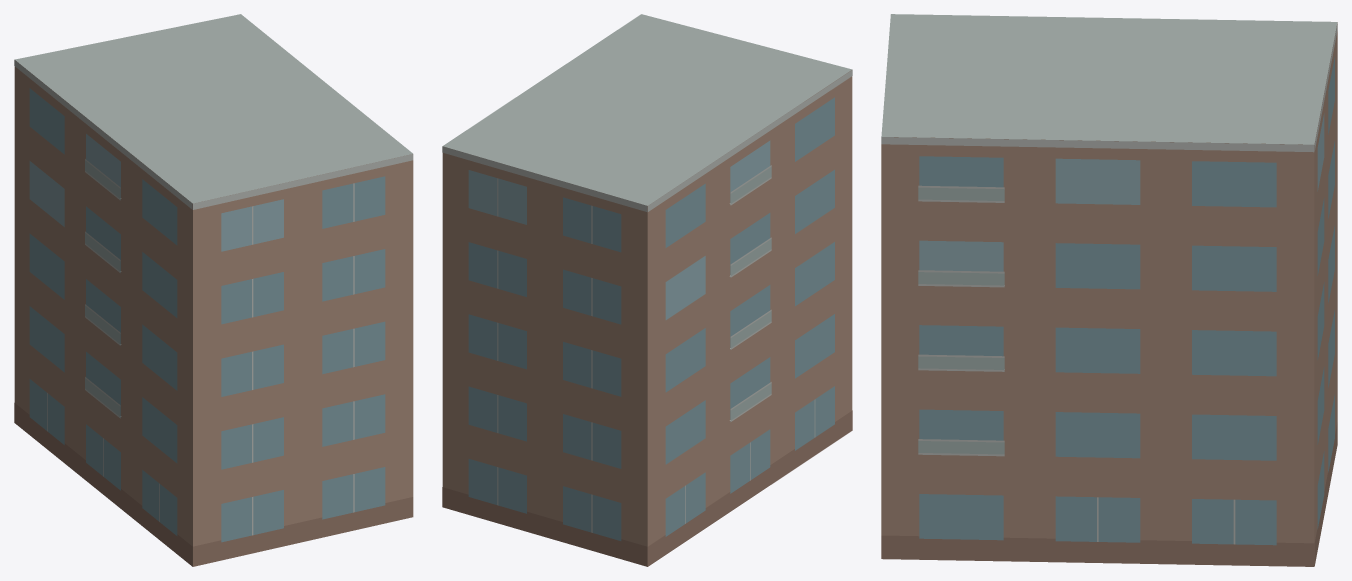
File: survey-upis-32881890.glb
3 renders of one model, left to right at view 1: azimuth 30°, elevation 25°; view 2: azimuth 150°, elevation 25°; view 3: azimuth 270°, elevation 25°, orthographic. The views are drawn at different scales.
Visible parts, largest first — view 1: survey-upis-32881890.tmp; view 2: survey-upis-32881890.tmp; view 3: survey-upis-32881890.tmp.
Part boxes in pixels (x1,y1,x2,y2): survey-upis-32881890.tmp: (14, 14, 413, 566); survey-upis-32881890.tmp: (442, 14, 852, 566); survey-upis-32881890.tmp: (881, 14, 1337, 566).
Size of the model in its own units: 9.1 by 13.7 by 13.43.
